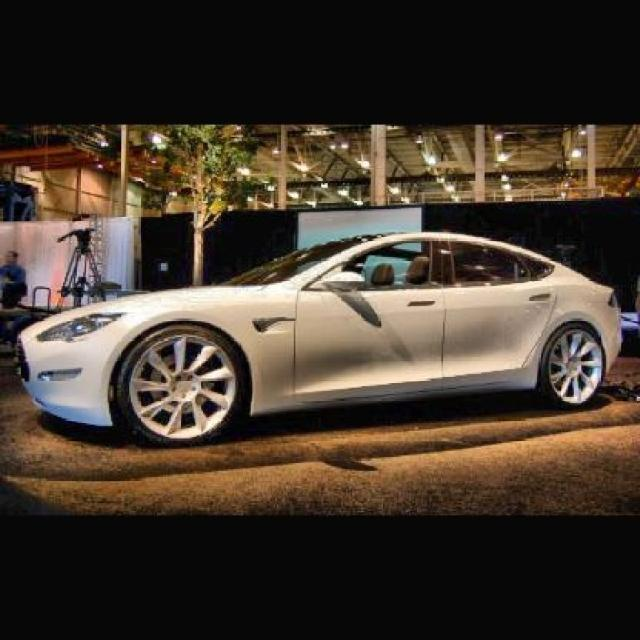white: (29, 230, 626, 445)
